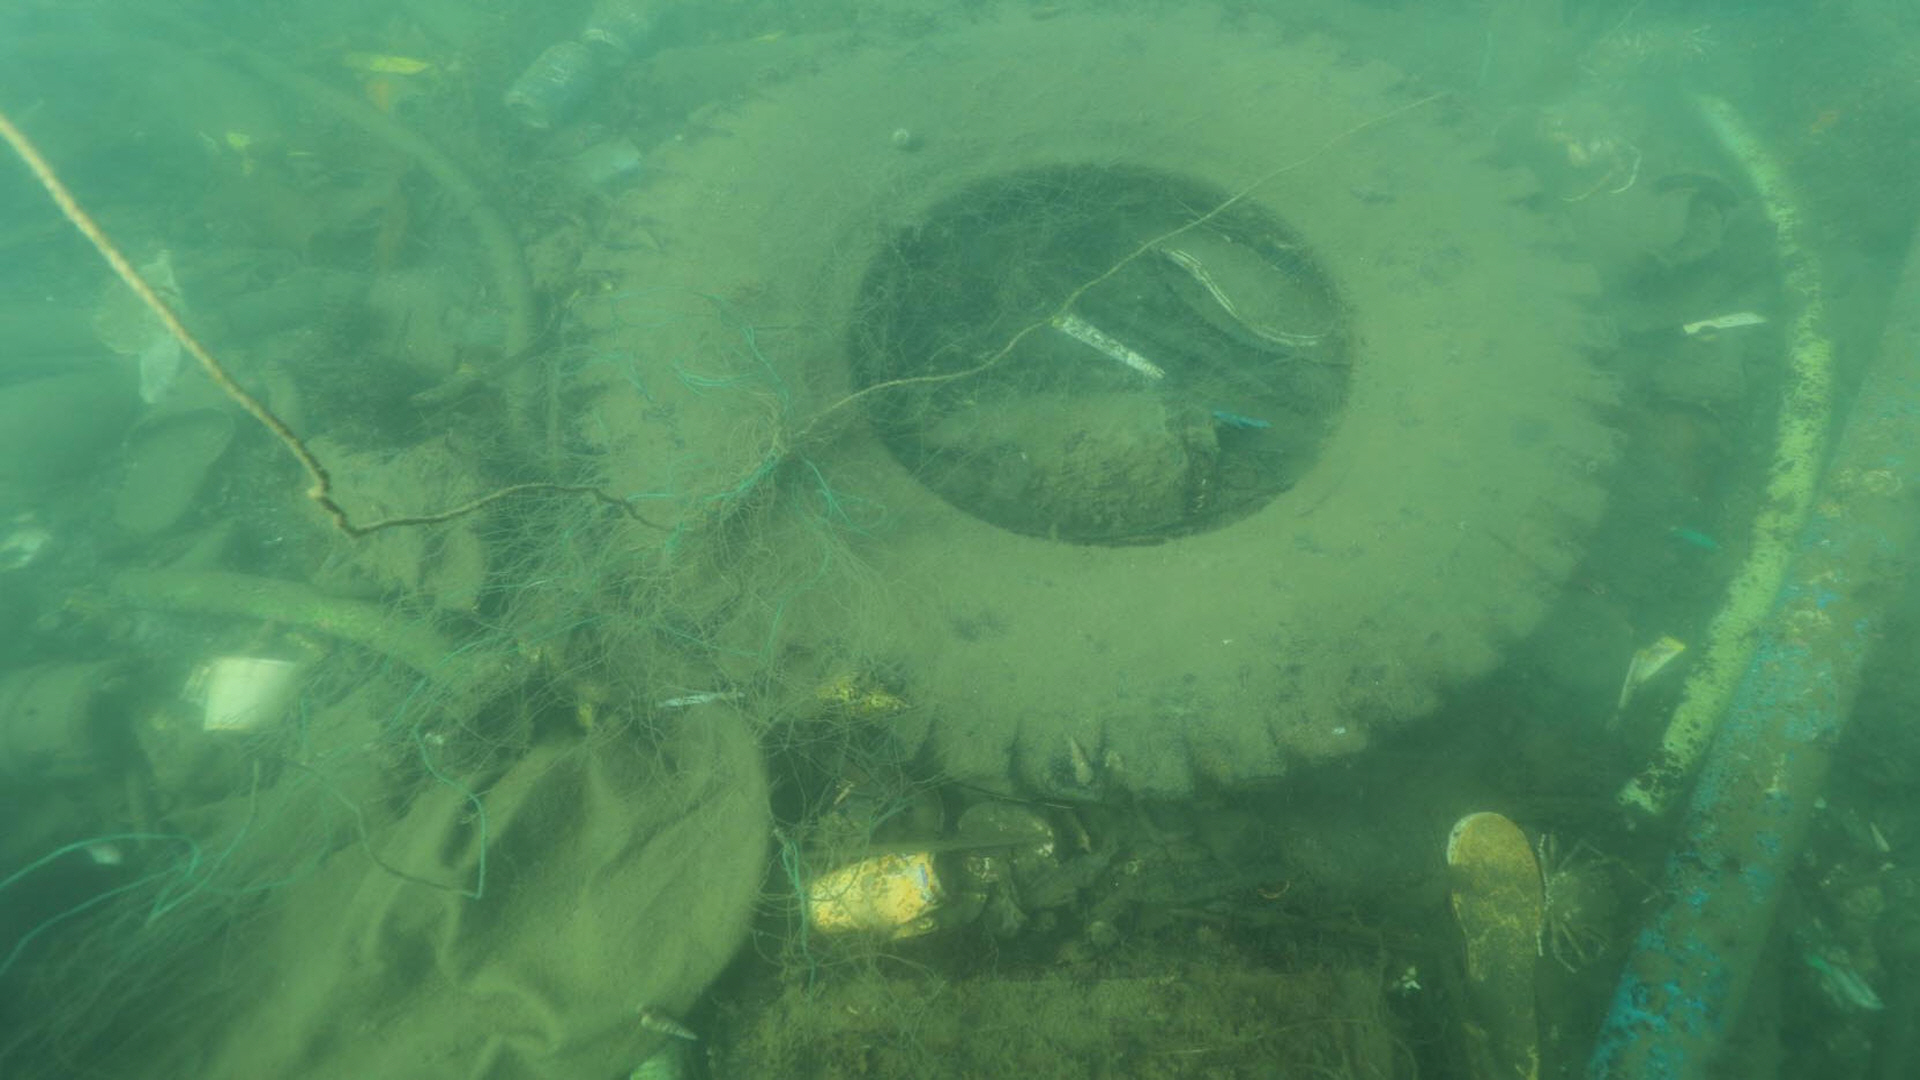rope: (0, 112, 1338, 546)
tire: (564, 5, 1619, 796)
